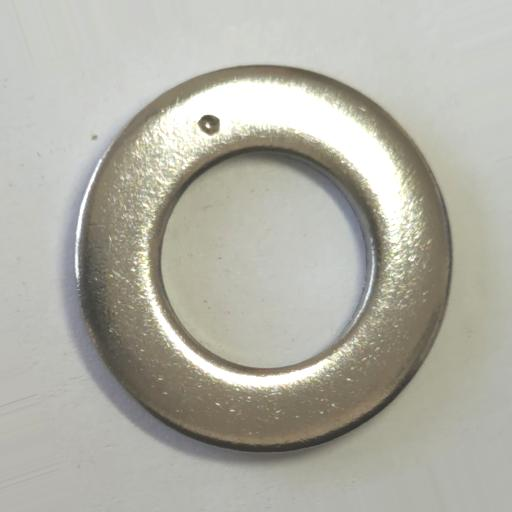circular_cavity: (197, 114, 220, 135)
